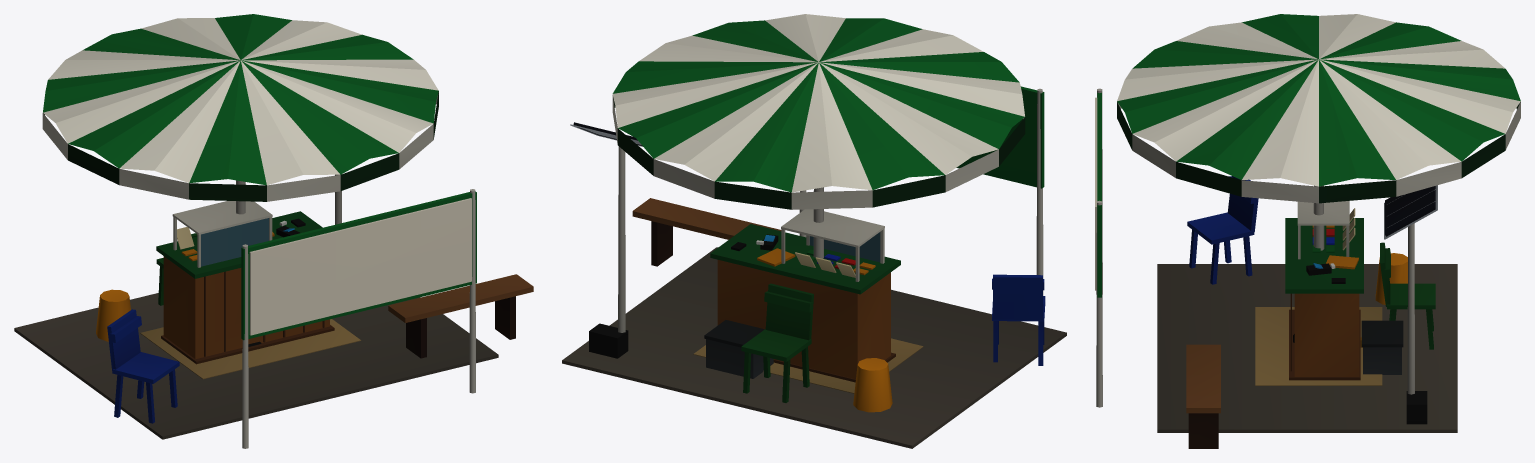
The model's file is ps_pos.glb.
3 renders of one model, left to right at view 1: azimuth 30°, elevation 25°; view 2: azimuth 150°, elevation 25°; view 3: azimuth 270°, elevation 25°, orthographic. The views are drawn at different scales.
Visible parts, largest first — view 1: ps_pos; view 2: ps_pos; view 3: ps_pos.
Part boxes in pixels (box(x1,y1,x2,y2)): ps_pos: box(14, 14, 533, 448); ps_pos: box(562, 14, 1066, 448); ps_pos: box(1095, 14, 1520, 448).
Bounding box in the file's own units: 4.06 × 2.73 × 3.69.
